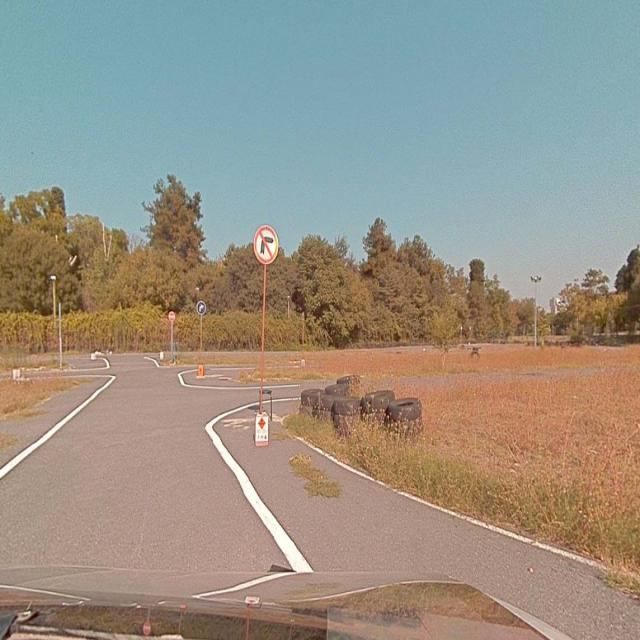girisyok: (169, 312, 175, 321)
sag: (196, 300, 206, 314)
sagadonulmez: (254, 225, 278, 264)
